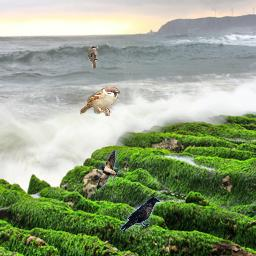Crow: (120, 197, 160, 233)
Cuckoo: (88, 46, 98, 68)
Sparrow: (80, 87, 120, 116)
Swallow: (97, 150, 124, 190)
